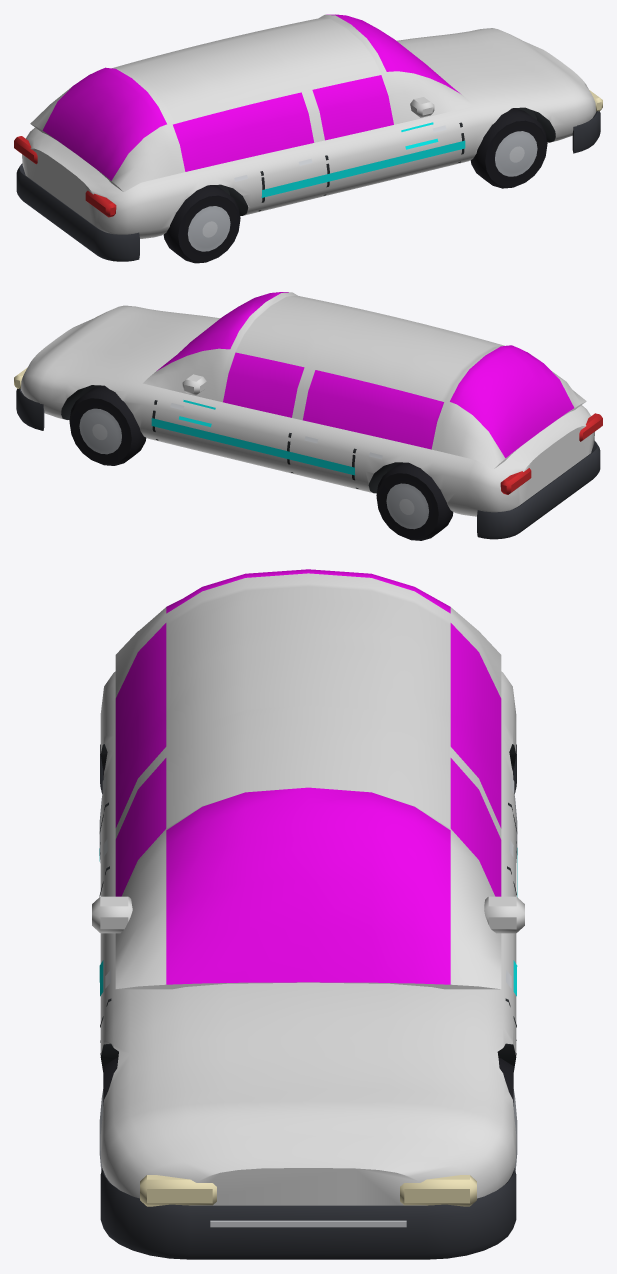
File: economy.glb
3 views of the same model, one above another, from view 1: azimuth 30°, elevation 25°; view 2: azimuth 150°, elevation 25°; view 3: azimuth 270°, elevation 25° (orthographic). The views are drawn at different scales.
Visible parts, largest first — view 1: LOD0; view 2: LOD0; view 3: LOD0.
Part boxes in pixels (x1,y1,x2,y2): LOD0: (14,14,602,263); LOD0: (14,292,602,540); LOD0: (92,569,524,1259).
Size of what is drawn, in the model's own units: 4.72 by 1.38 by 1.74.
